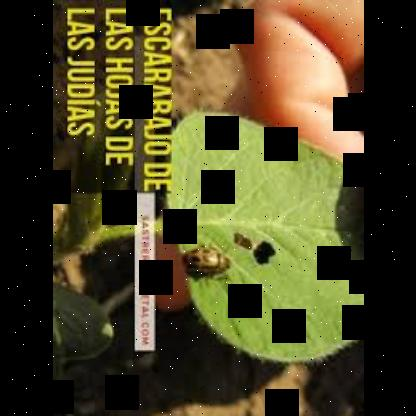agujero: (252, 238, 276, 268), (231, 230, 251, 250)
